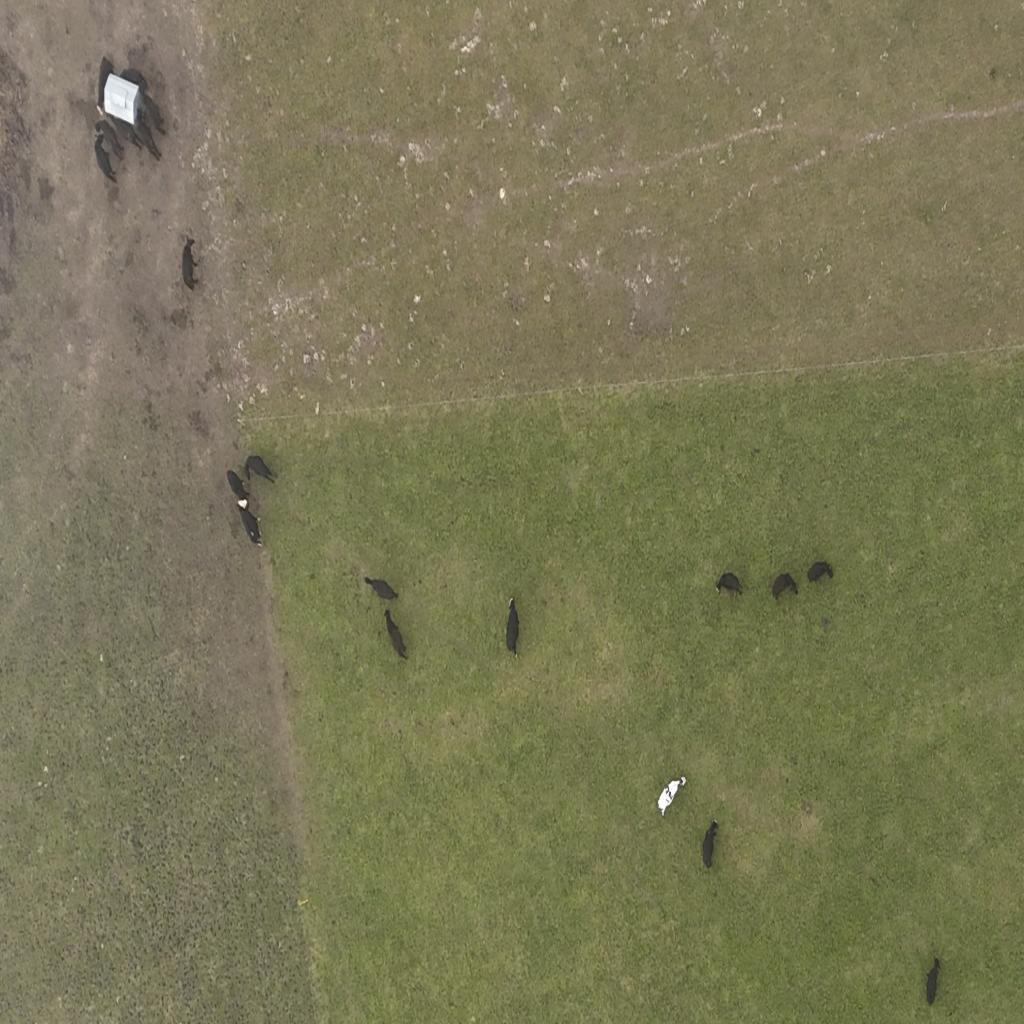cow: (654, 771, 688, 815), (94, 129, 120, 186), (384, 608, 408, 660), (240, 497, 263, 549), (243, 455, 275, 485), (363, 576, 399, 602), (182, 236, 198, 292), (226, 470, 250, 506), (771, 572, 799, 602), (506, 596, 520, 655), (714, 571, 744, 598), (702, 820, 718, 868), (925, 956, 941, 1004), (807, 560, 833, 584)
